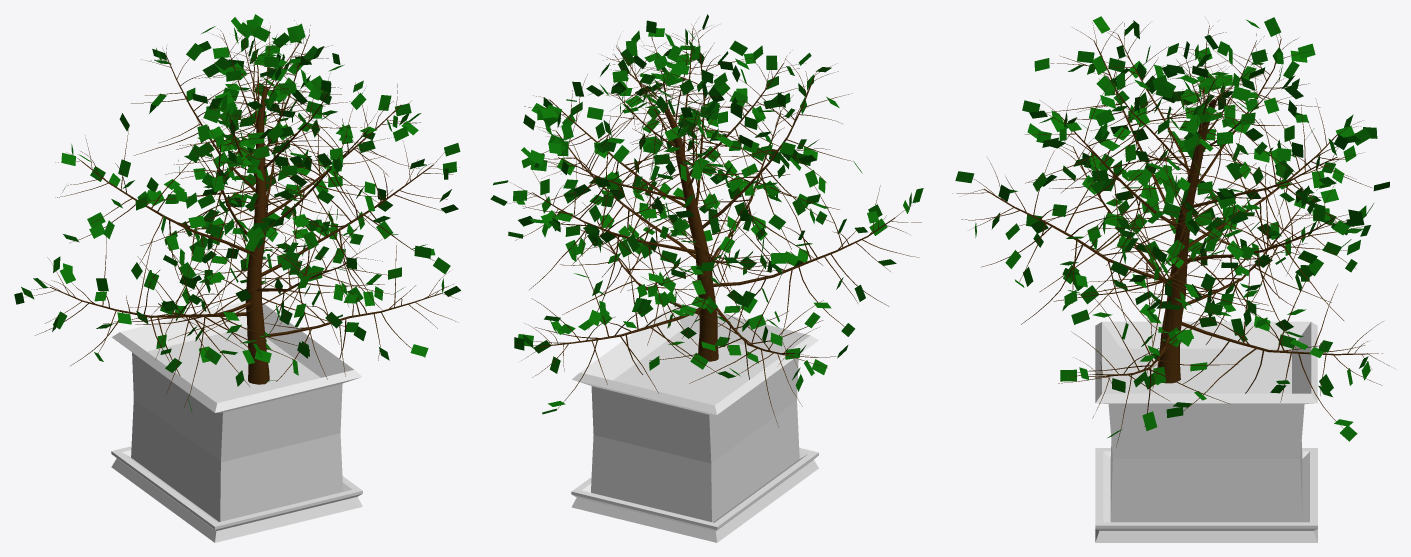
The model's file is TreeTest1.FBX.
3 views of the same model, side by side, from view 1: azimuth 30°, elevation 25°; view 2: azimuth 150°, elevation 25°; view 3: azimuth 270°, elevation 25° (orthographic). The views are drawn at different scales.
Parts seen in each view (by area): view 1: Foliage001, Box036; view 2: Foliage001, Box036; view 3: Foliage001, Box036.
Part boxes in pixels (left/top/right/bottom): Foliage001: left=14, top=14, right=460, bottom=413; Box036: left=111, top=301, right=362, bottom=542; Foliage001: left=490, top=14, right=923, bottom=427; Box036: left=571, top=302, right=818, bottom=542; Foliage001: left=952, top=16, right=1389, bottom=447; Box036: left=1095, top=321, right=1317, bottom=542.
Bounding box in the file's own units: 104 × 124 × 101.
